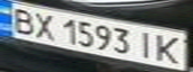1: (54, 16, 78, 45)
3: (112, 25, 133, 56)
5: (75, 18, 96, 48)
9: (90, 23, 115, 53)
B: (6, 6, 39, 35)
I: (133, 29, 157, 61)
K: (151, 33, 187, 65)
X: (30, 10, 60, 40)
